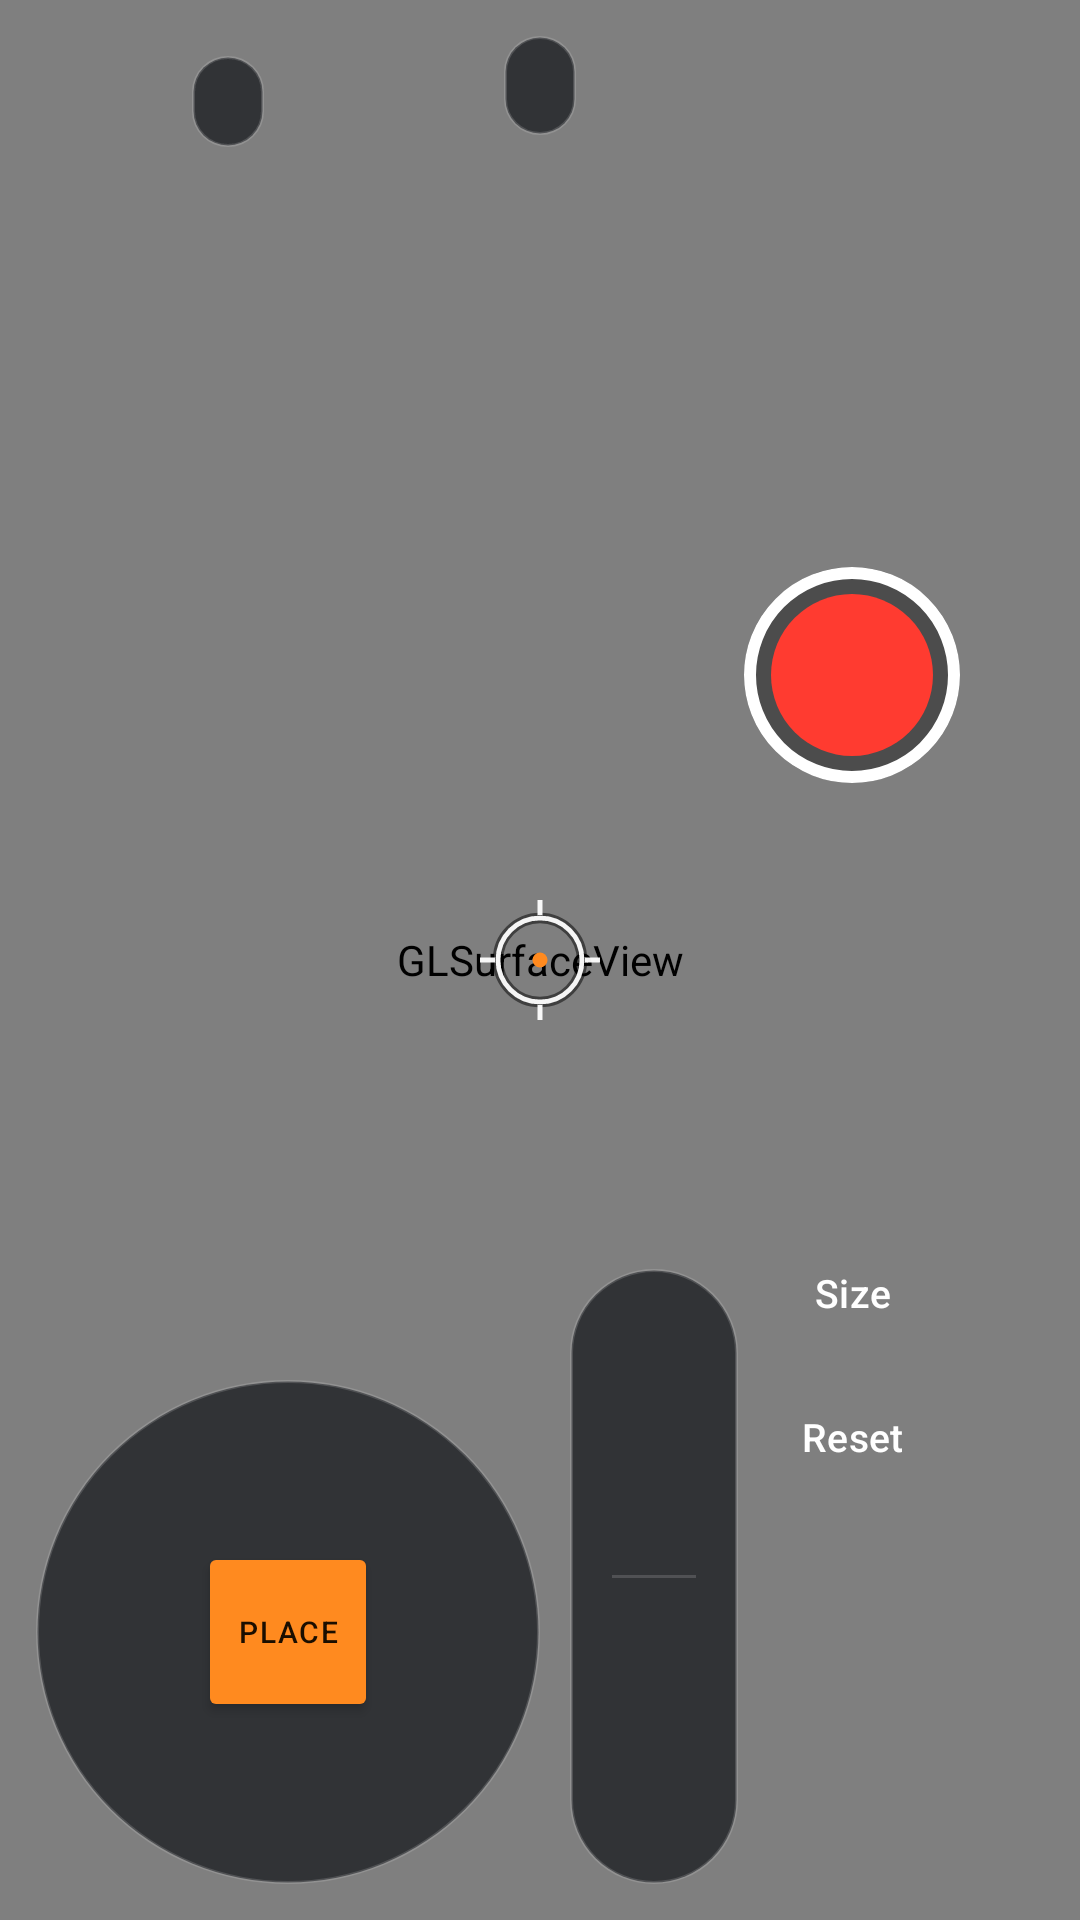

Point at icon controls on the screen. Image size 1080w x 1920h, points as (x=x, y=y).
Record: (x=852, y=675)
